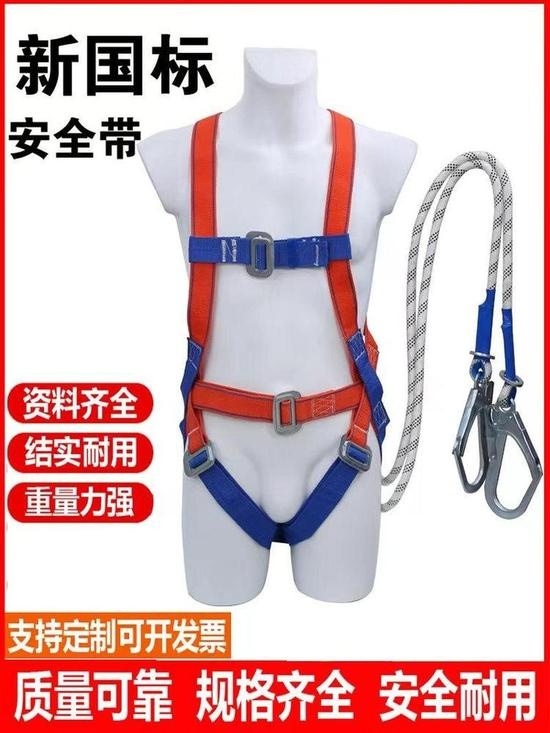safety belt: (164, 115, 408, 542)
